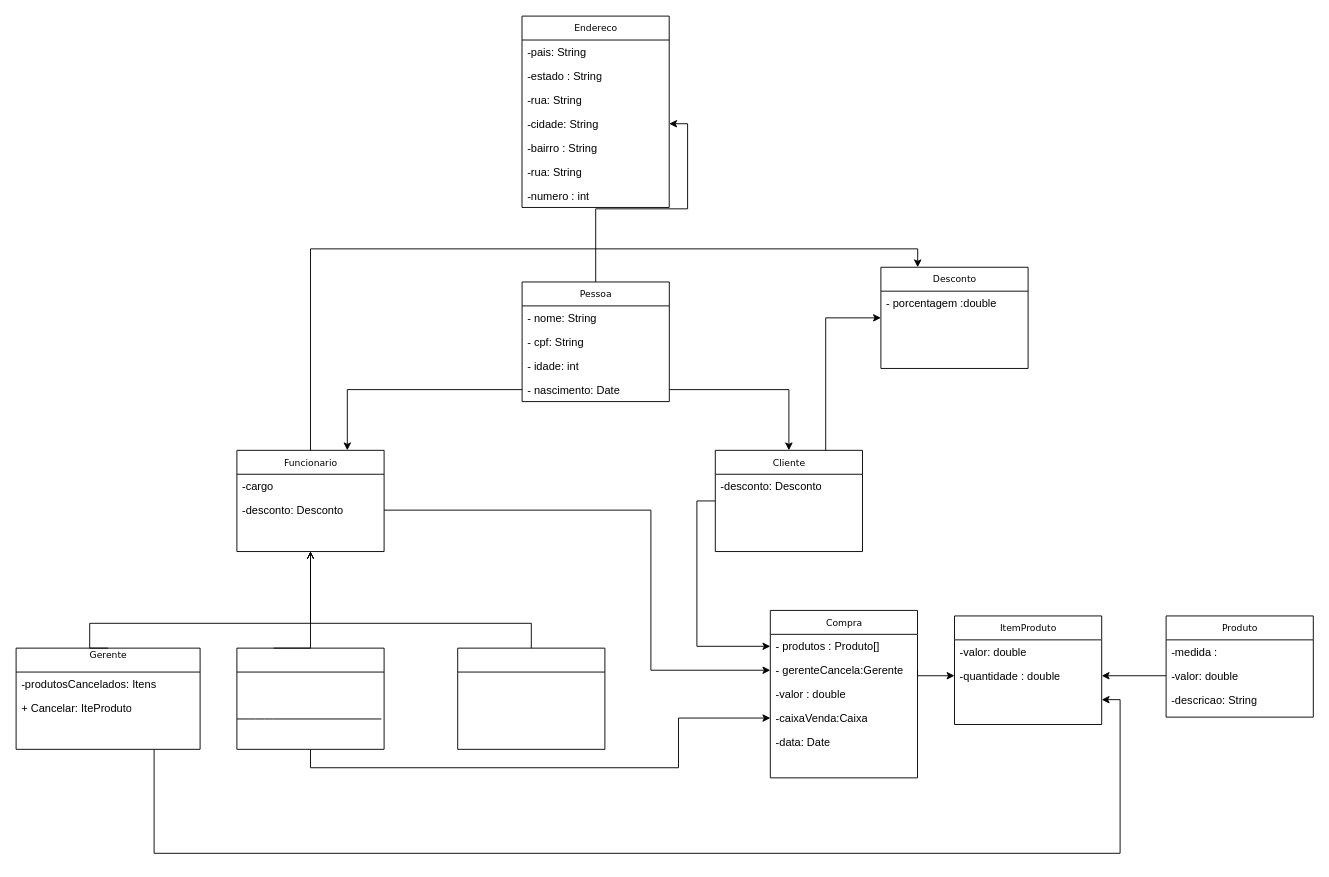
Some shapes in this 1329 by 877 pixel diagram are drawn without their labels. The centre of each missing label's shape, as x and y in pixels:
"Caixa" goes at (x=310, y=698).
"Repositor" goes at (x=531, y=698).
